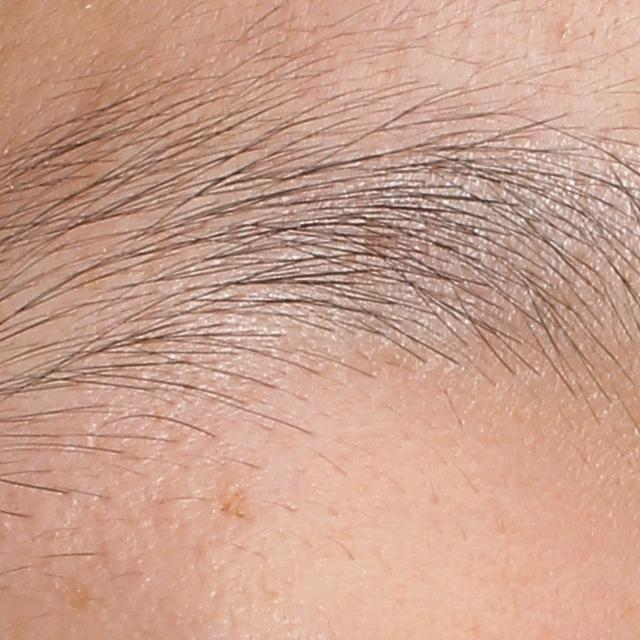melasma: (51, 570, 102, 615), (214, 487, 253, 520)
